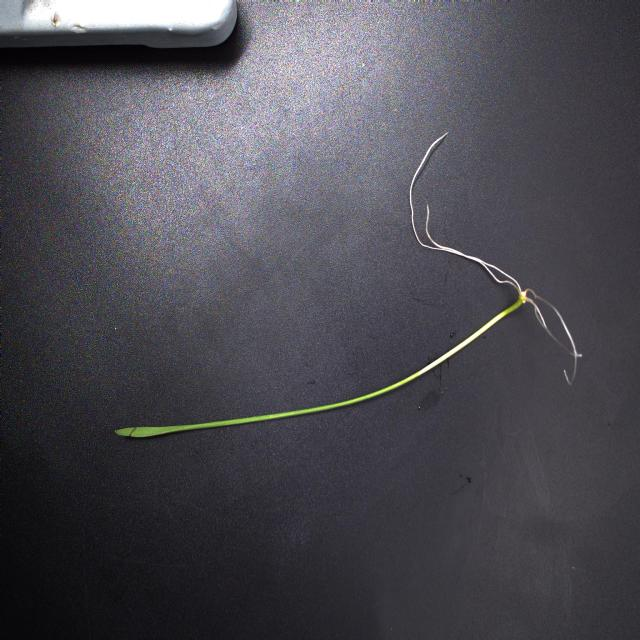leaf: (115, 425, 182, 439)
root: (409, 132, 554, 338), (545, 301, 581, 384)
stem: (116, 297, 523, 437)
